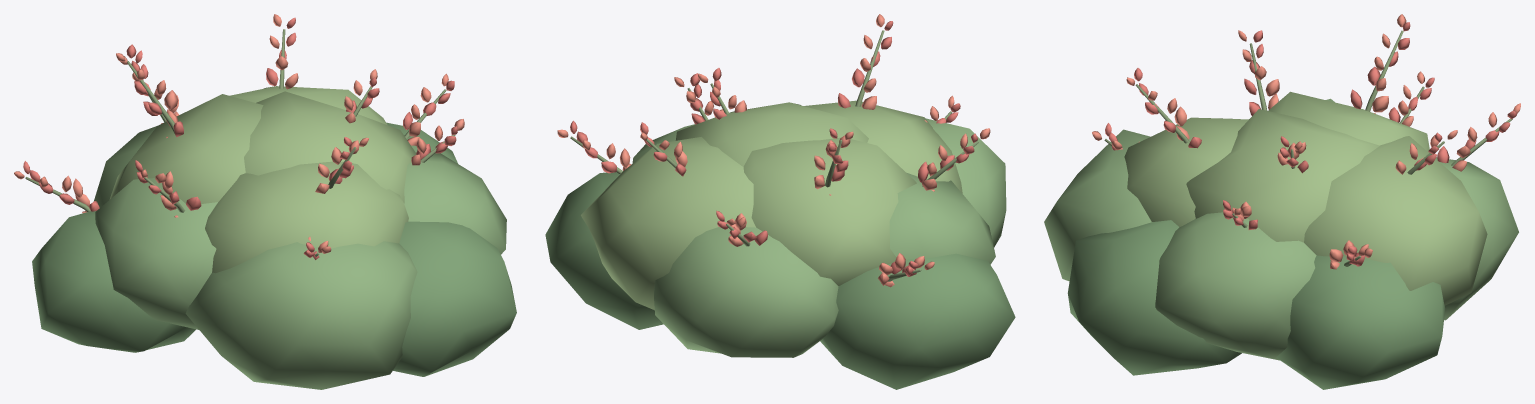
Rendered from ceibo_bush_2.glb.
3 views of the same model, side by side, from view 1: azimuth 30°, elevation 25°; view 2: azimuth 150°, elevation 25°; view 3: azimuth 270°, elevation 25° (orthographic).
Parts seen in each view (by area): view 1: CeiboLeafM, CeiboLeafL, CeiboLeafD, CeiboPetal, CeiboFlower, CeiboWood; view 2: CeiboLeafL, CeiboLeafM, CeiboLeafD, CeiboPetal, CeiboFlower, CeiboWood; view 3: CeiboLeafL, CeiboLeafD, CeiboLeafM, CeiboPetal, CeiboFlower, CeiboWood.
Boxes of the visible parts, x1=… form: CeiboLeafM: x1=93, y1=126, x2=506, y2=389; CeiboLeafL: x1=109, y1=86, x2=416, y2=273; CeiboLeafD: x1=32, y1=122, x2=516, y2=376; CeiboPetal: x1=14, y1=14, x2=464, y2=253; CeiboFlower: x1=23, y1=17, x2=457, y2=259; CeiboWood: x1=25, y1=29, x2=455, y2=256; CeiboLeafL: x1=581, y1=100, x2=962, y2=309; CeiboLeafM: x1=632, y1=118, x2=1006, y2=357; CeiboLeafD: x1=545, y1=172, x2=1015, y2=389; CeiboPetal: x1=557, y1=14, x2=990, y2=287; CeiboFlower: x1=570, y1=21, x2=977, y2=276; CeiboWood: x1=570, y1=30, x2=978, y2=281; CeiboLeafL: x1=1124, y1=91, x2=1487, y2=305; CeiboLeafD: x1=1067, y1=220, x2=1445, y2=389; CeiboLeafM: x1=1044, y1=98, x2=1518, y2=360; CeiboPetal: x1=1092, y1=14, x2=1520, y2=269; CeiboFlower: x1=1105, y1=22, x2=1516, y2=266; CeiboWood: x1=1104, y1=30, x2=1512, y2=266.
Bounding box in the file's own units: 2 × 1.17 × 1.92.
